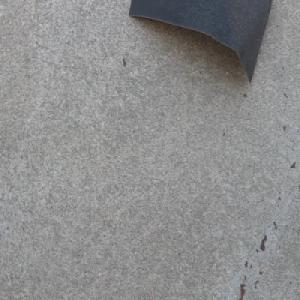PaintChip: (128, 0, 273, 85)
